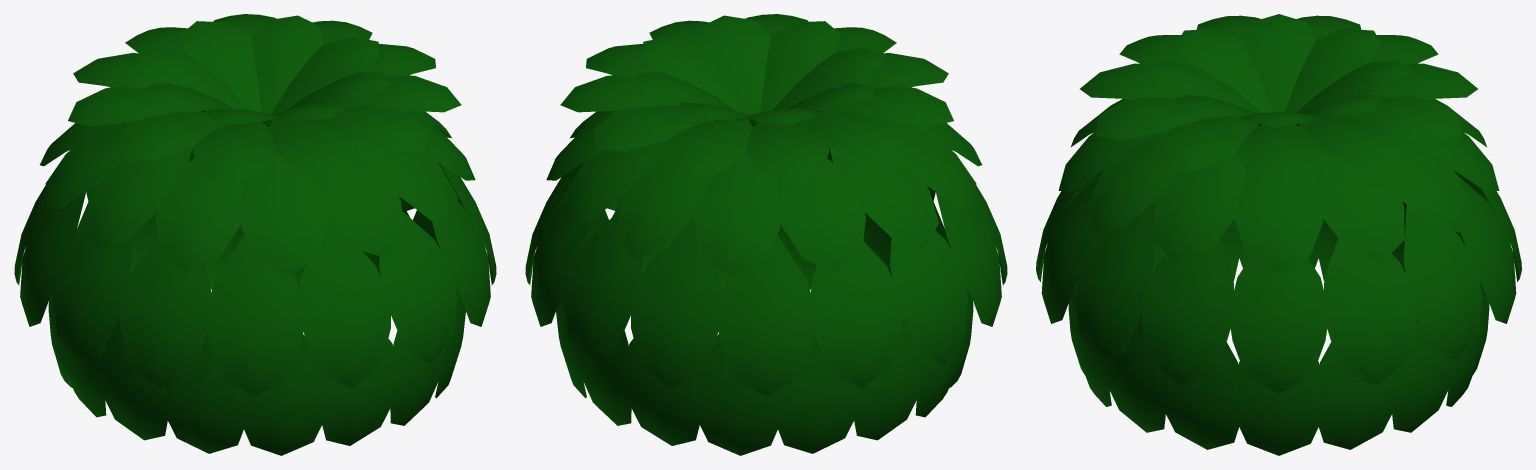
Rendered from Leaf.fbx.
3 renders of one model, left to right at view 1: azimuth 30°, elevation 25°; view 2: azimuth 150°, elevation 25°; view 3: azimuth 270°, elevation 25°, orthographic.
Parts seen in each view (by area): view 1: Leaves1.001; view 2: Leaves1.001; view 3: Leaves1.001.
Boxes of the visible parts, left/top/right/bottom form: Leaves1.001: left=14, top=14, right=496, bottom=455; Leaves1.001: left=525, top=14, right=1007, bottom=455; Leaves1.001: left=1036, top=14, right=1521, bottom=455.
Size of the model in its own units: 196 by 139 by 197.
